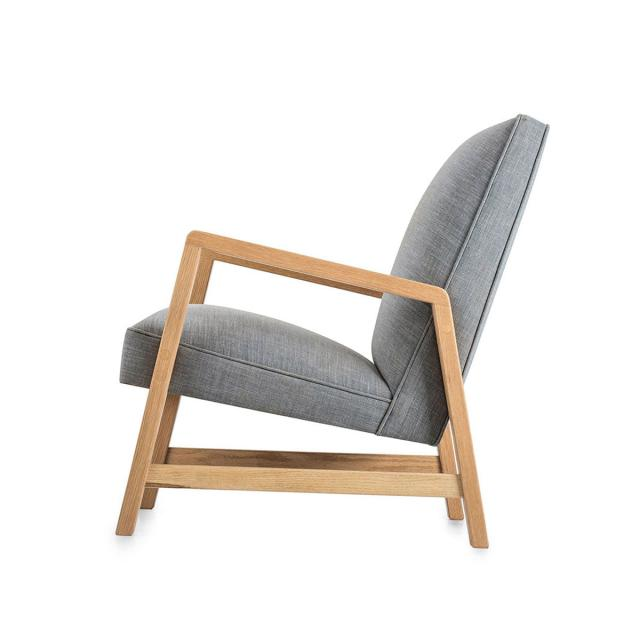chair: (21, 59, 588, 640)
